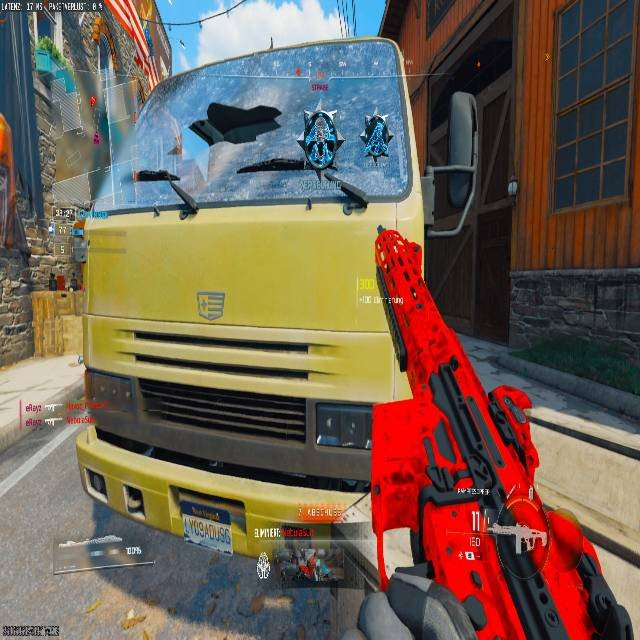player: (298, 107, 366, 214), (299, 107, 343, 178), (361, 114, 391, 163)
